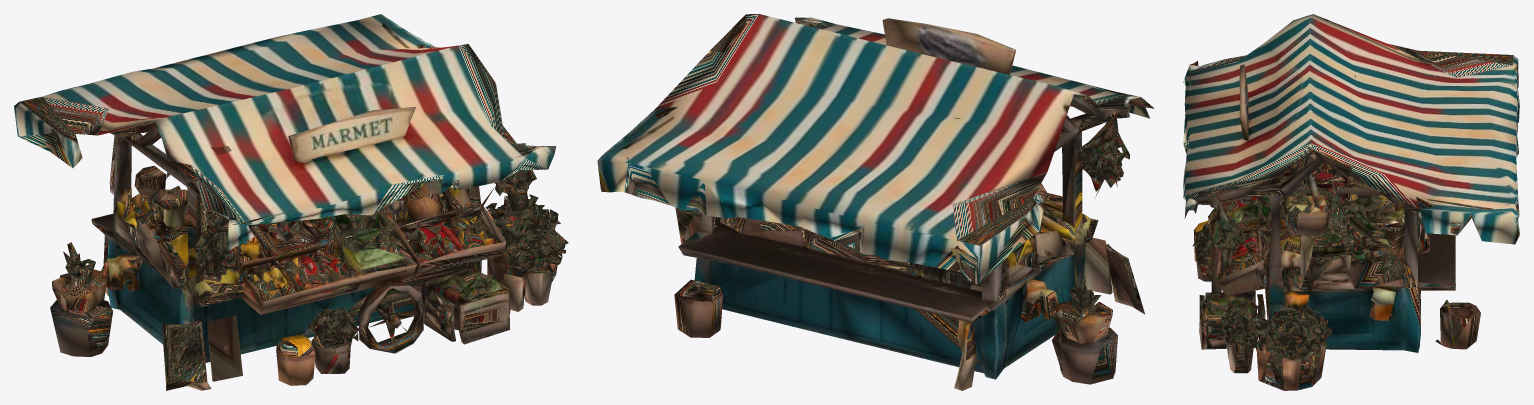
The model's file is Farmers_Market_Cart.glb.
3 views of the same model, side by side, from view 1: azimuth 30°, elevation 25°; view 2: azimuth 150°, elevation 25°; view 3: azimuth 270°, elevation 25° (orthographic). The views are drawn at different scales.
Parts seen in each view (by area): view 1: Farmers_Market_Cart; view 2: Farmers_Market_Cart; view 3: Farmers_Market_Cart.
Part boxes in pixels (x1,y1,x2,y2): Farmers_Market_Cart: (14, 14, 568, 390); Farmers_Market_Cart: (597, 14, 1154, 390); Farmers_Market_Cart: (1183, 14, 1519, 390).
Bounding box in the file's own units: 1.87 × 0.931 × 1.34.
Materials: 1 (1 with a texture image).
